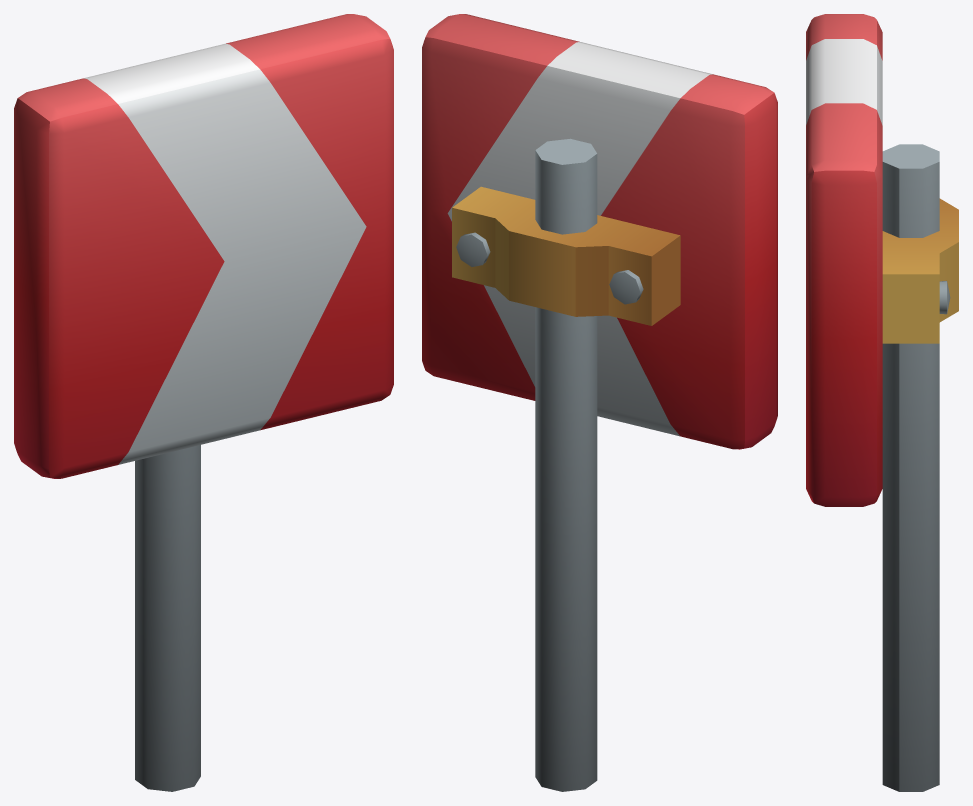
The model's file is signage_arrow_stand_red.glb.
3 renders of one model, left to right at view 1: azimuth 30°, elevation 25°; view 2: azimuth 150°, elevation 25°; view 3: azimuth 270°, elevation 25°, orthographic. The views are drawn at different scales.
Visible parts, largest first — view 1: signage_arrow_stand_red; view 2: signage_arrow_stand_red; view 3: signage_arrow_stand_red.
Boxes of the visible parts, bbox=[...] form: signage_arrow_stand_red: bbox=[14, 14, 393, 791]; signage_arrow_stand_red: bbox=[422, 14, 777, 791]; signage_arrow_stand_red: bbox=[806, 14, 958, 791].
Bounding box in the file's own units: 1 × 2 × 0.4.
Materials: 1 (1 with a texture image).
